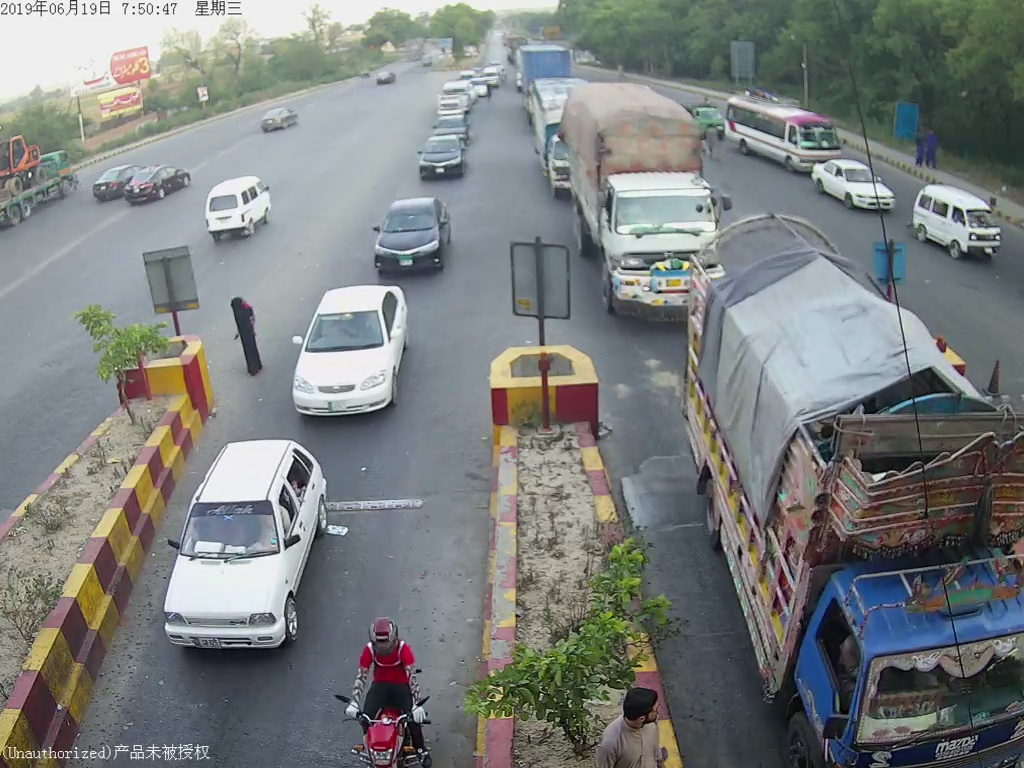Cat-1: (161, 424, 329, 646), (289, 274, 412, 424), (371, 195, 457, 280), (417, 132, 466, 184)
Cat-4: (561, 80, 722, 315)
